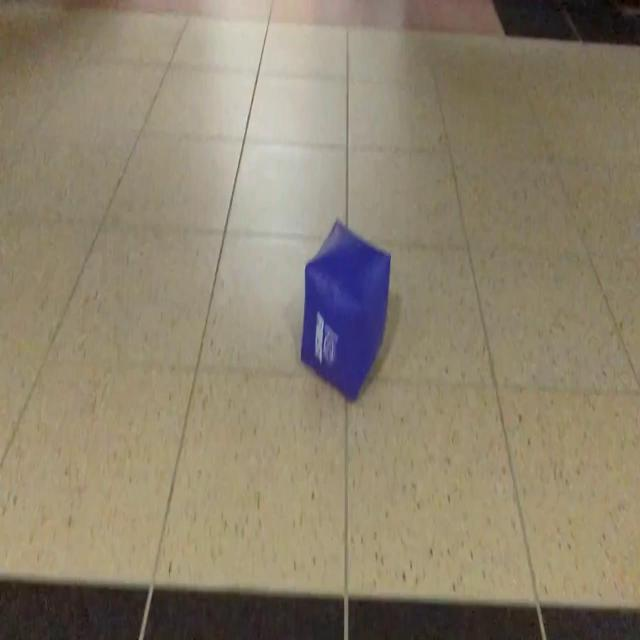frc_cube: (298, 223, 389, 404)
